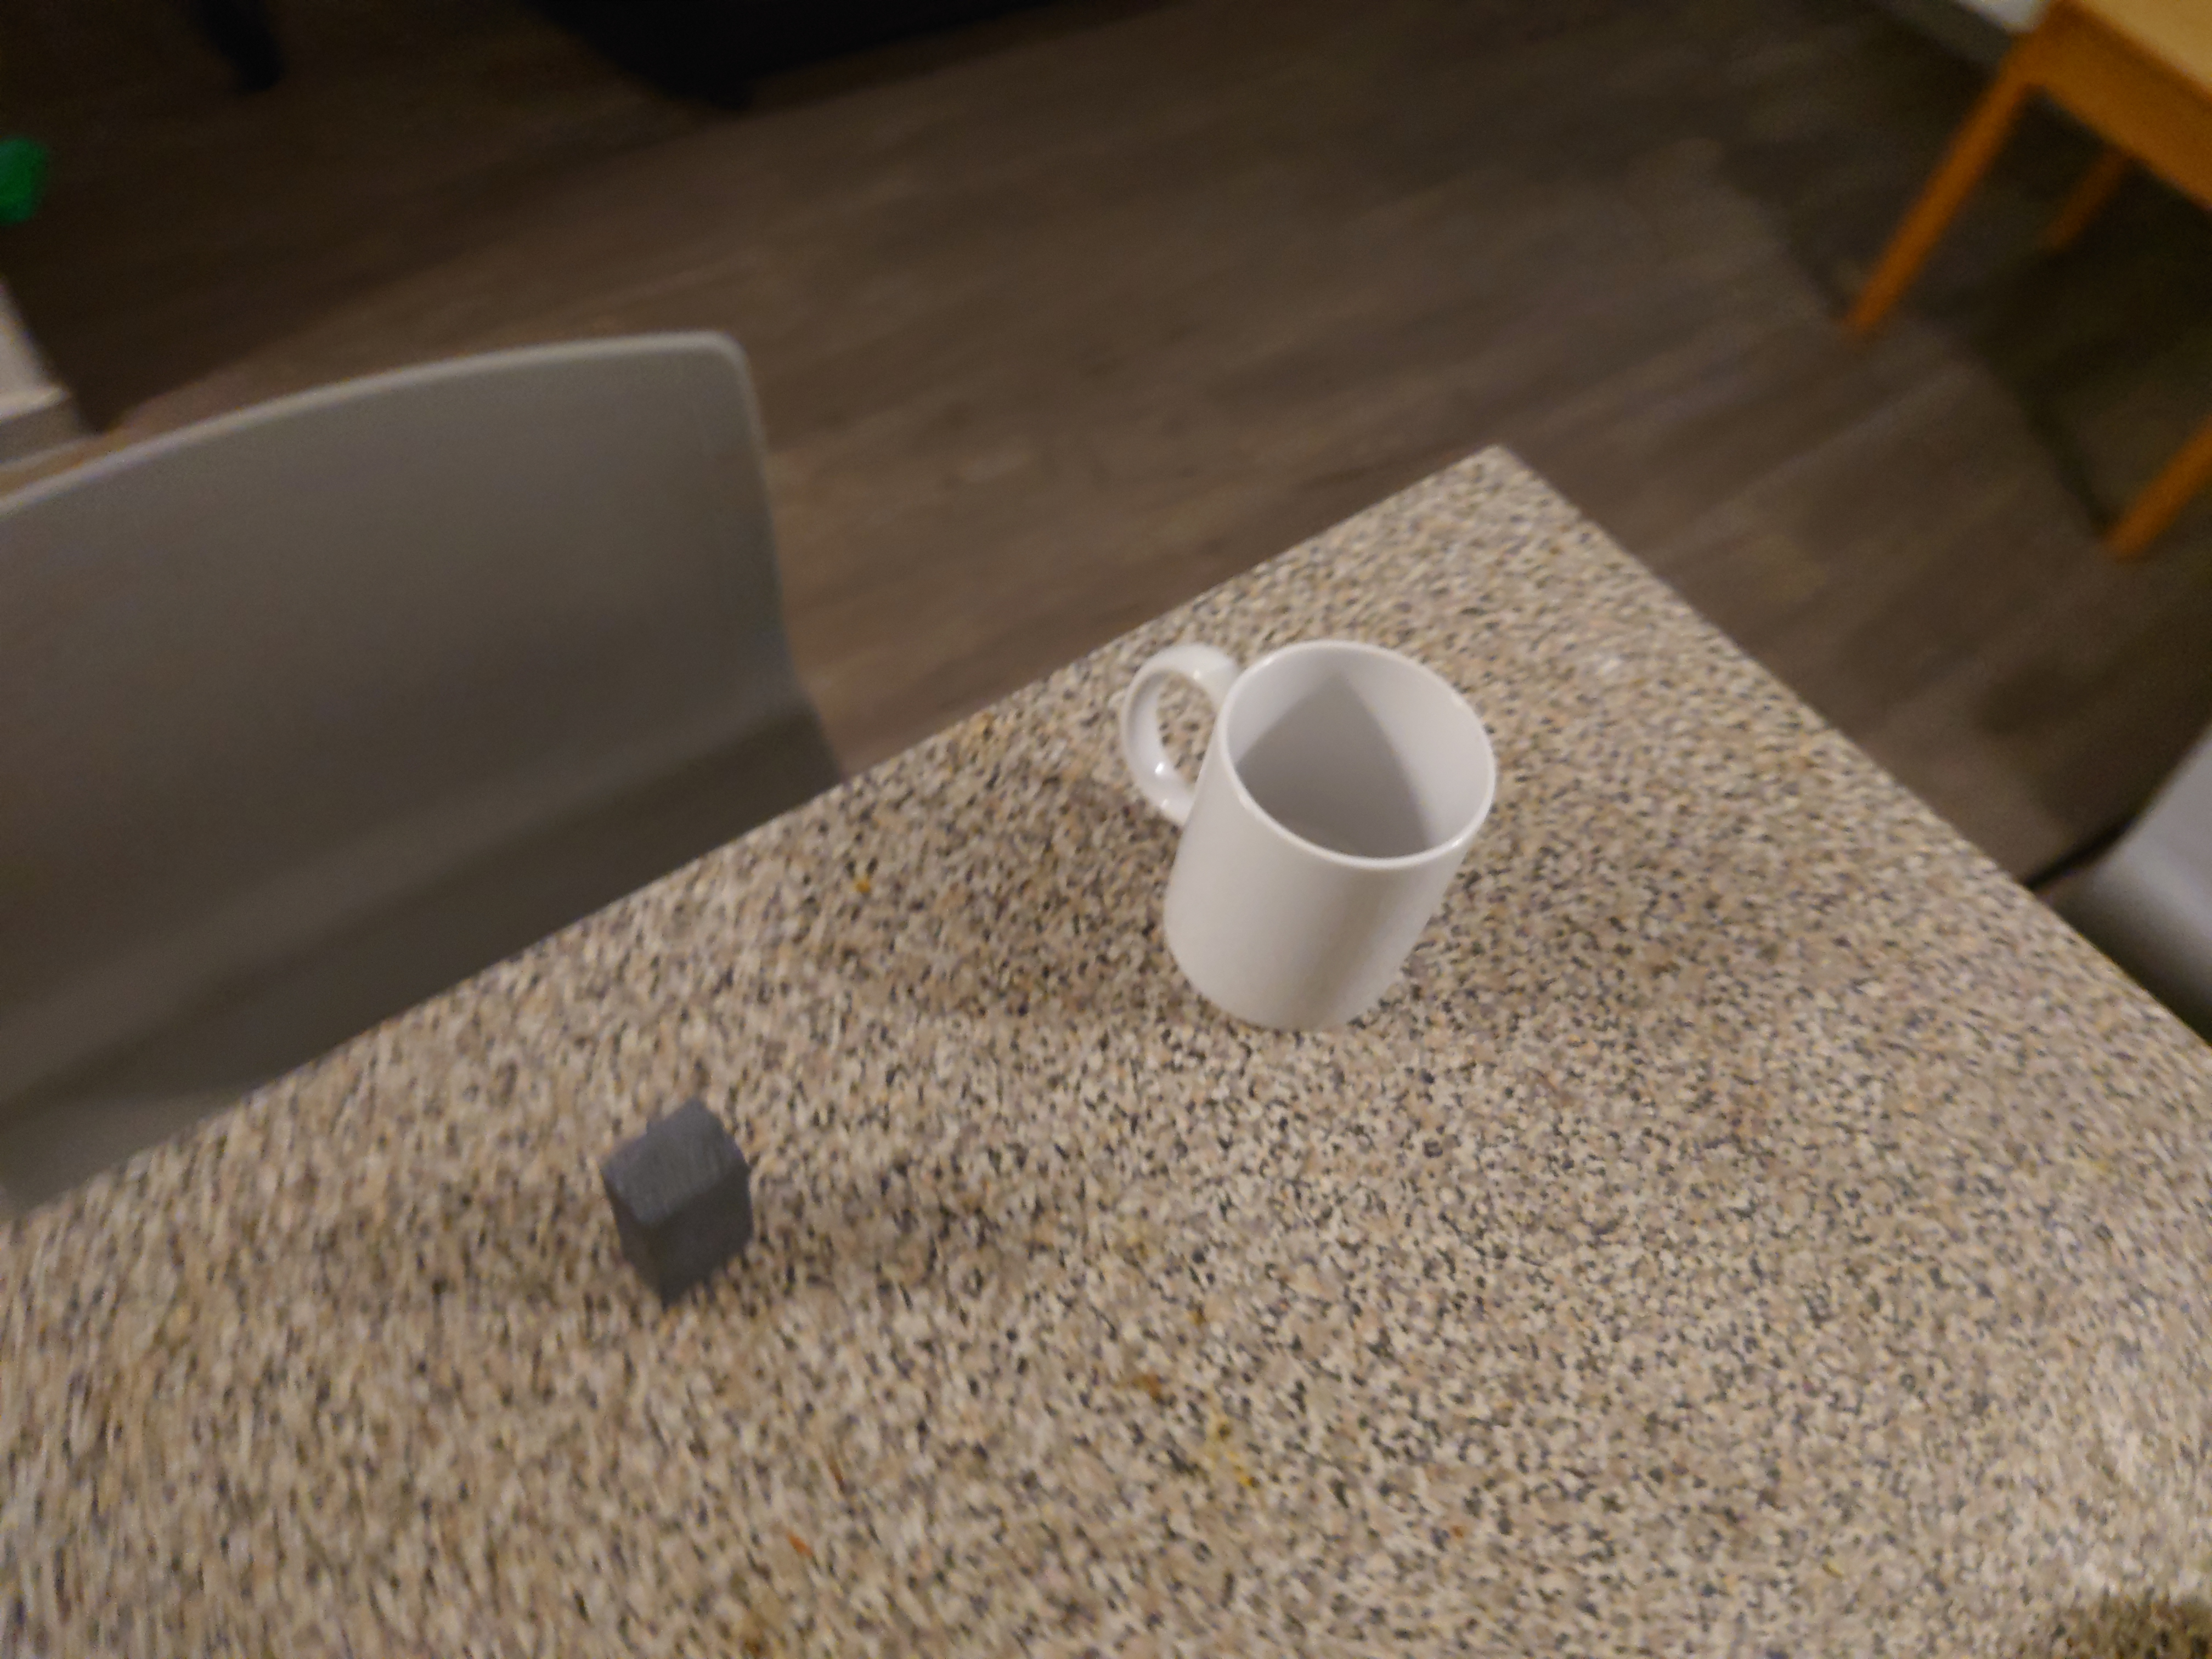cup: (1108, 631, 1498, 1023)
target: (592, 1101, 759, 1304)
